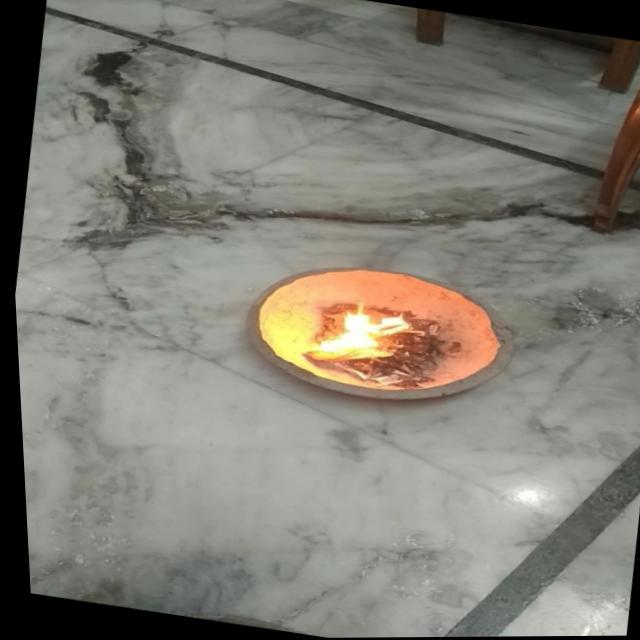fire: (312, 293, 426, 380)
